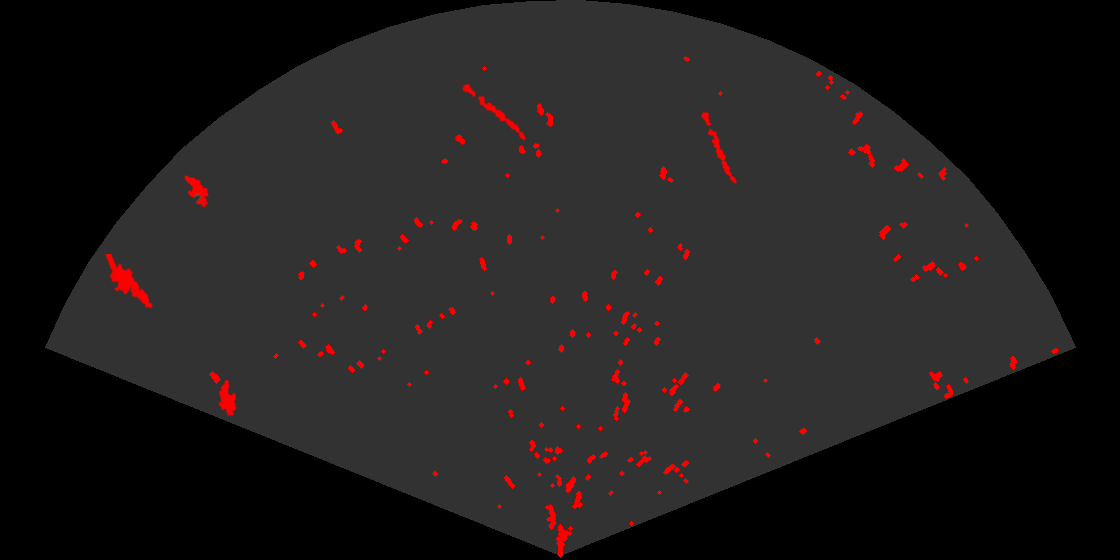AUV: (183, 174, 210, 209), (217, 378, 238, 418)
chain: (456, 77, 527, 142), (699, 107, 738, 186)
frogman: (103, 254, 154, 310)
